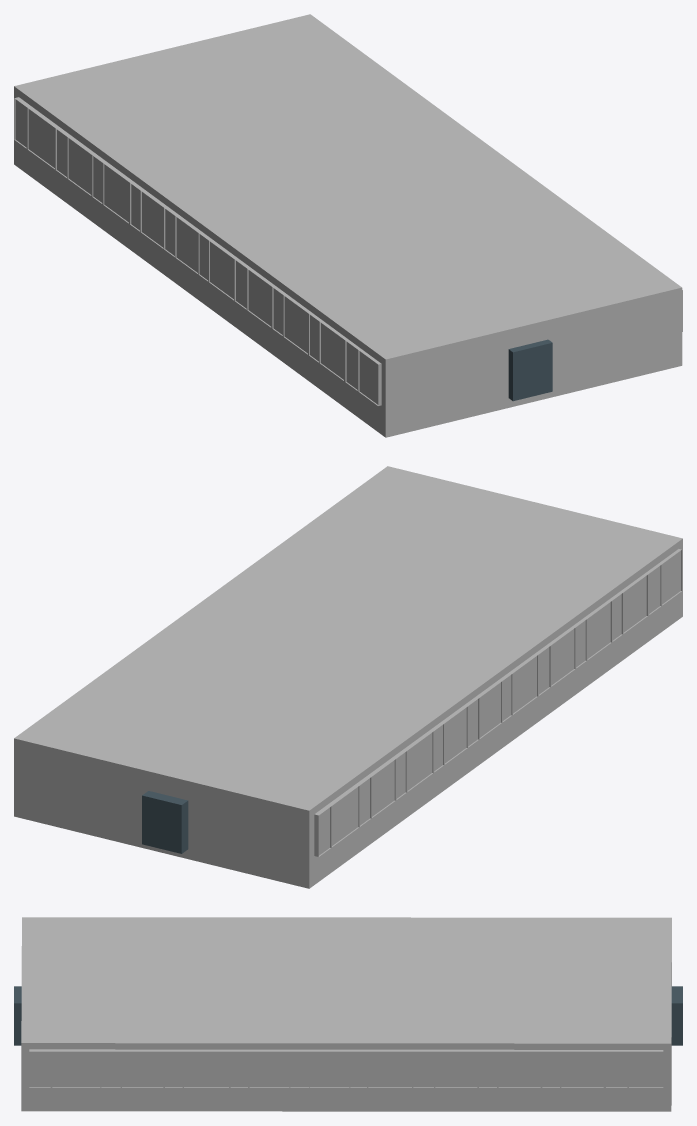
3 renders of one model, top to bottom at view 1: azimuth 30°, elevation 25°; view 2: azimuth 150°, elevation 25°; view 3: azimuth 270°, elevation 25°, orthographic. The views are drawn at different scales.
Parts seen in each view (by area): view 1: C15, Entrance; view 2: C15, Entrance_1; view 3: C15, Entrance_1, Entrance.
Boxes of the visible parts, x1,y1,x2,y2 form: C15: (14,14,682,437); Entrance: (508,339,552,401); C15: (14,466,682,888); Entrance_1: (142,791,188,853); C15: (21,917,671,1111); Entrance_1: (671,986,682,1045); Entrance: (14,986,21,1045).
Size of the model in its own units: 13.04 by 3.2 by 28.45.
